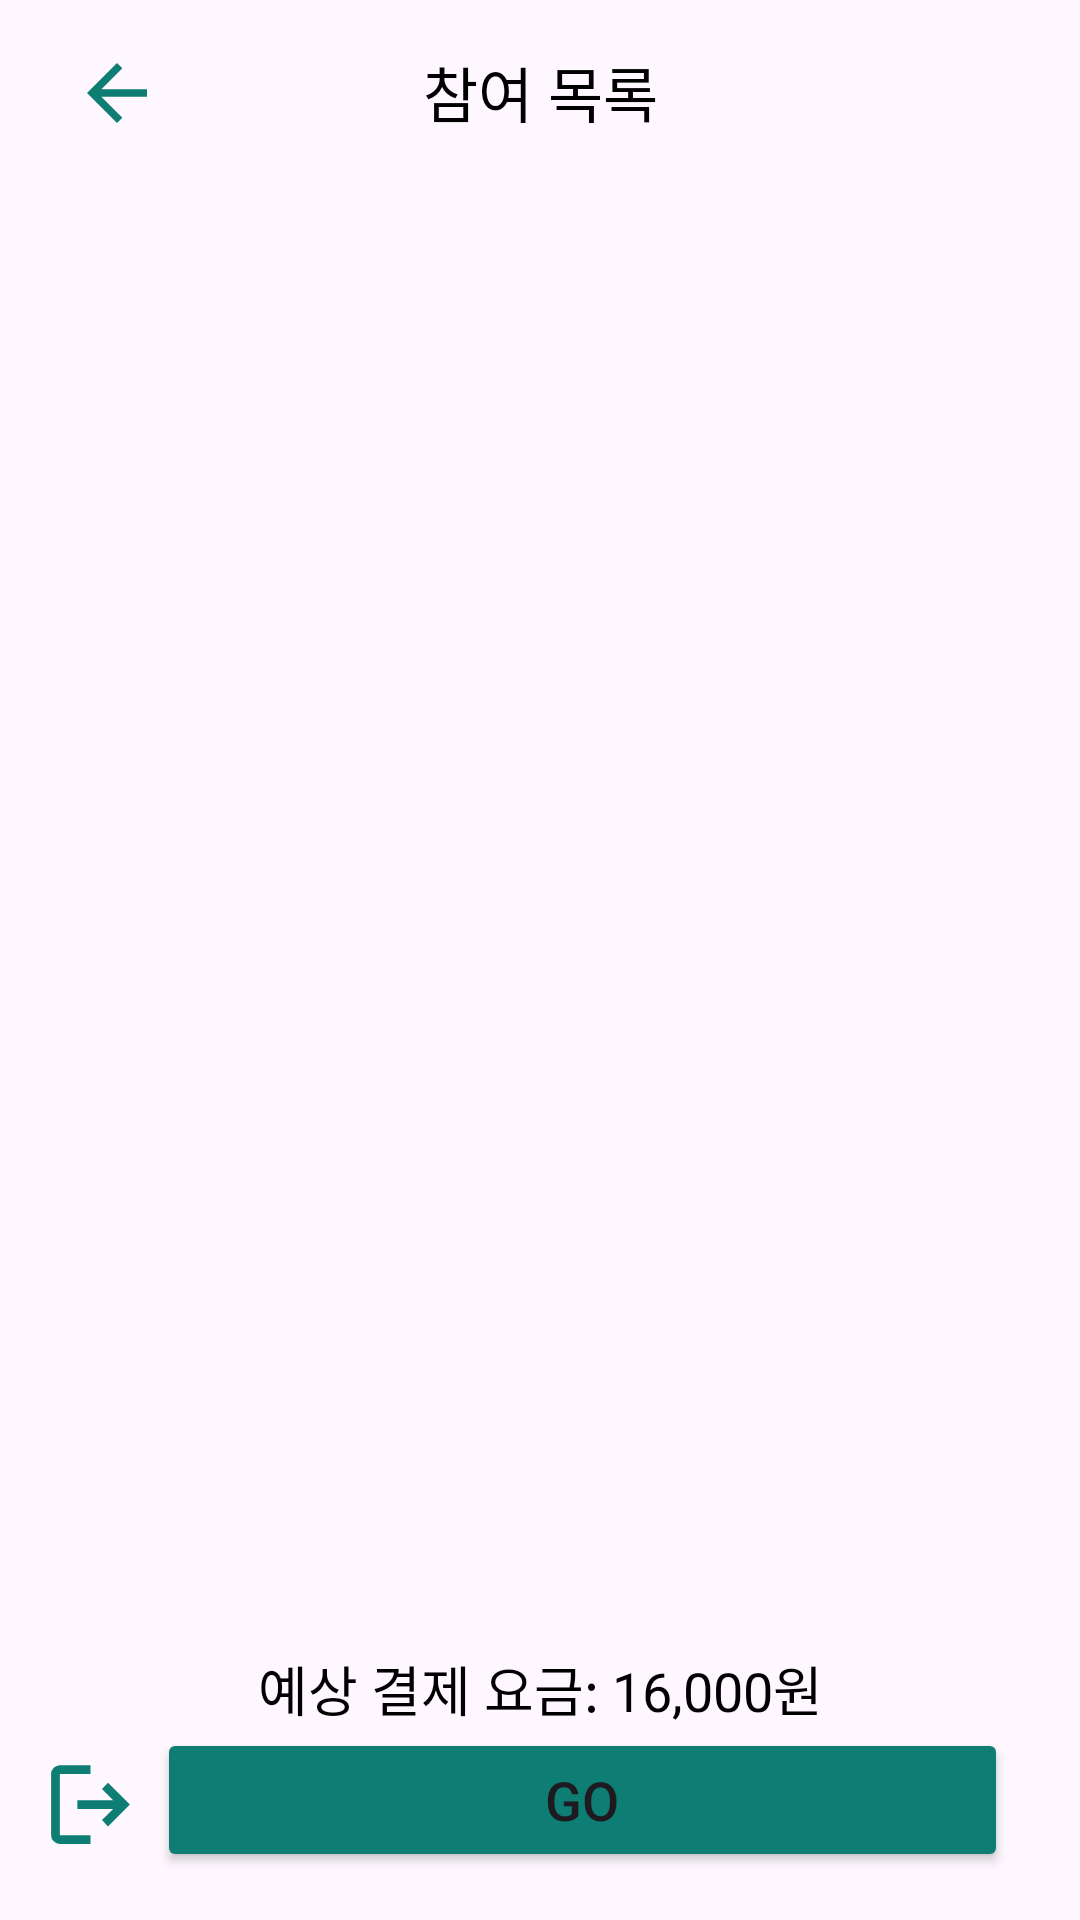

Named icons in this screenshot (1080×1920) and their bounding boxes, (x1, y1, x2, y2):
Back to Chat: (87, 63, 147, 123)
Exit: (51, 1765, 130, 1844)
